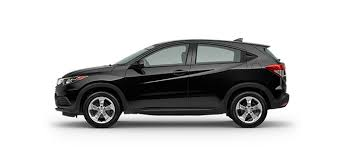Honda: (50, 39, 288, 129)
